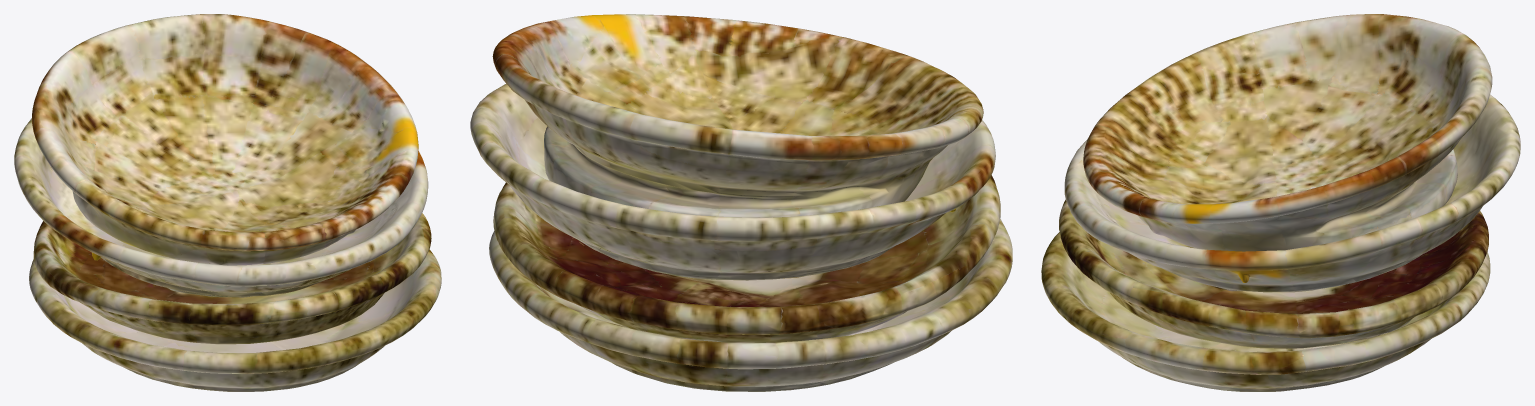
The model's file is dirty_plates.glb.
3 views of the same model, side by side, from view 1: azimuth 30°, elevation 25°; view 2: azimuth 150°, elevation 25°; view 3: azimuth 270°, elevation 25° (orthographic). The views are drawn at different scales.
Bounding box in the file's own units: 1.79 × 1.12 × 1.9.
Materials: 1 (1 with a texture image).
